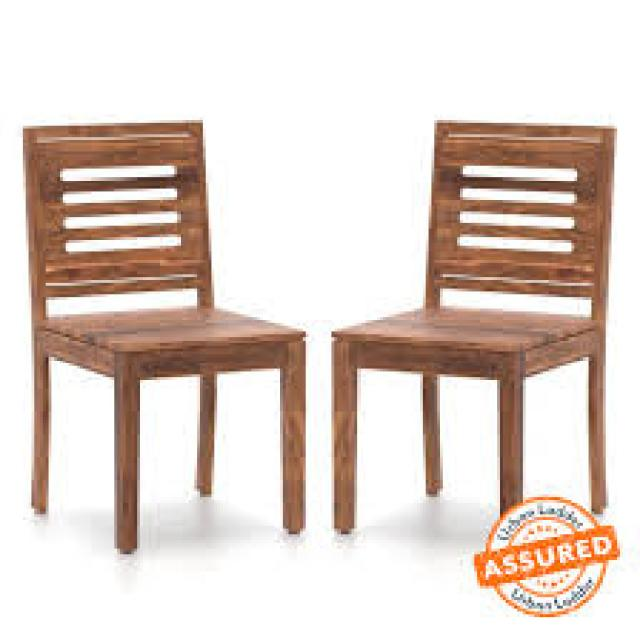chair: (310, 106, 640, 565), (8, 108, 320, 574)
